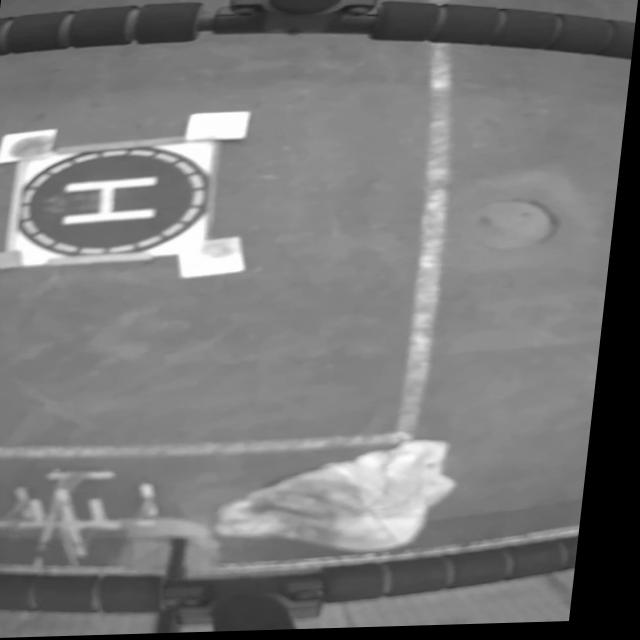Helipad: (68, 177, 162, 226)
